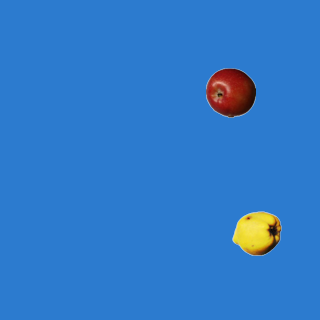Apple Braeburn: (205, 67, 255, 117)
Quince: (231, 208, 281, 258)
